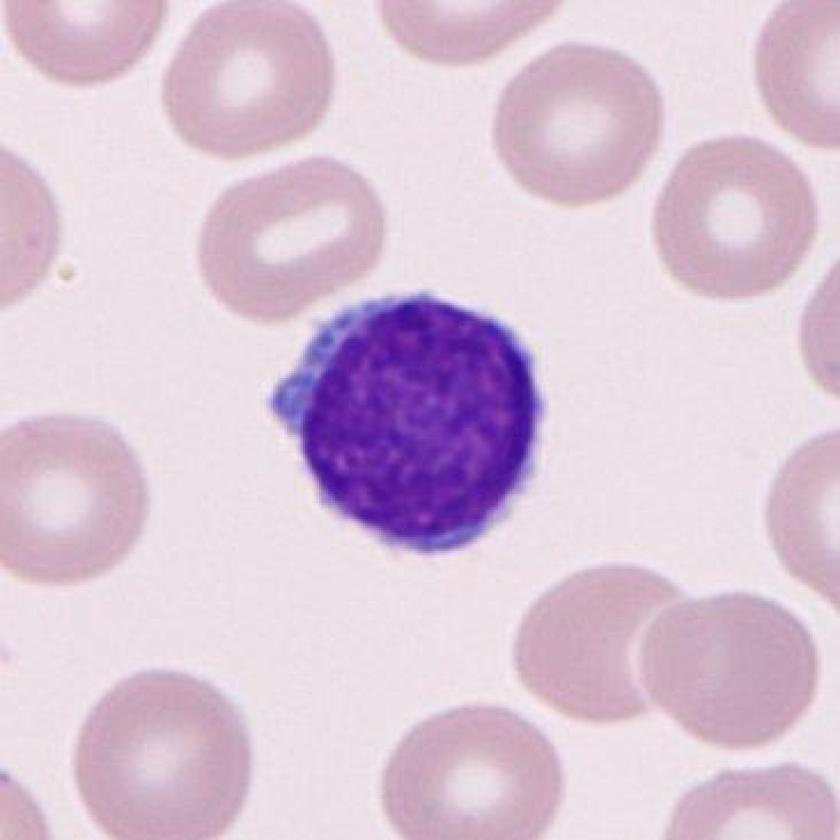lymphocyte: (258, 281, 563, 572)
